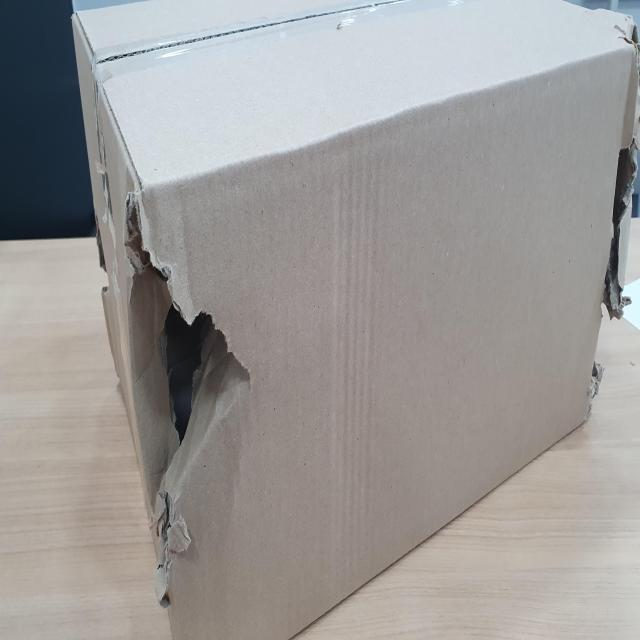damaged: (115, 207, 265, 610)
